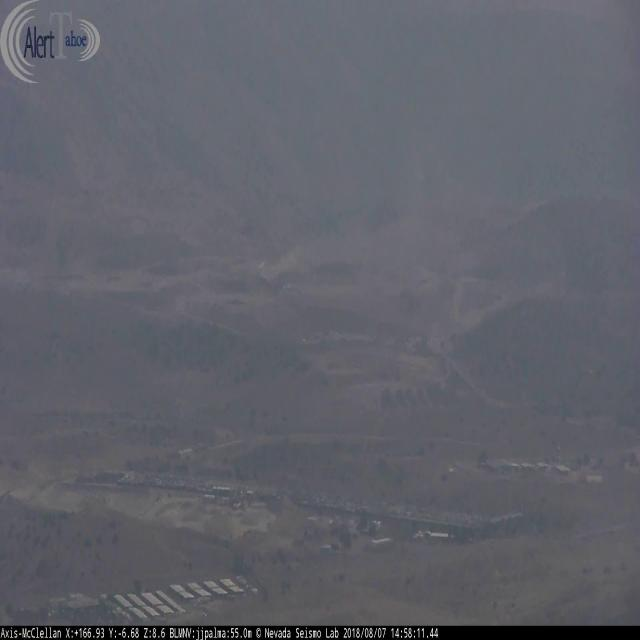smoke: (262, 205, 434, 293)
